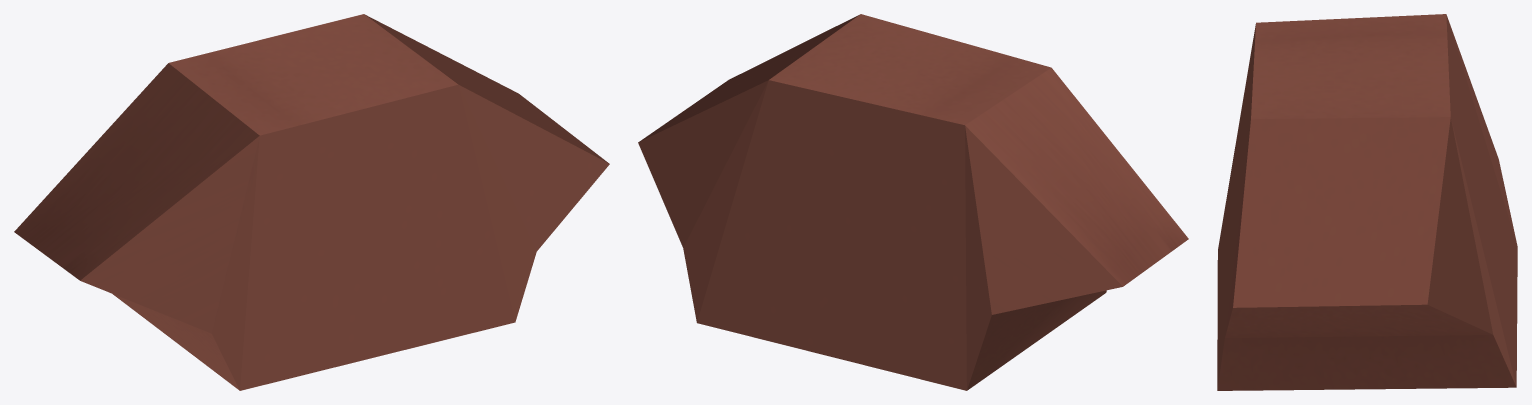
File: HairBase.FBX
3 views of the same model, side by side, from view 1: azimuth 30°, elevation 25°; view 2: azimuth 150°, elevation 25°; view 3: azimuth 270°, elevation 25° (orthographic). The views are drawn at different scales.
Parts seen in each view (by area): view 1: Hair 1; view 2: Hair 1; view 3: Hair 1.
Boxes of the visible parts, x1,y1,x2,y2 form: Hair 1: (14,14,609,390); Hair 1: (638,14,1188,390); Hair 1: (1217,14,1517,390).
Size of the model in its own units: 359 by 176 by 165.
1 material, 1 textured.
